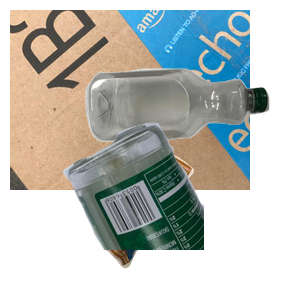cardboard: (10, 10, 250, 190)
glass: (60, 120, 300, 300)
plastic: (83, 66, 300, 201)
trash: (97, 151, 283, 300)
